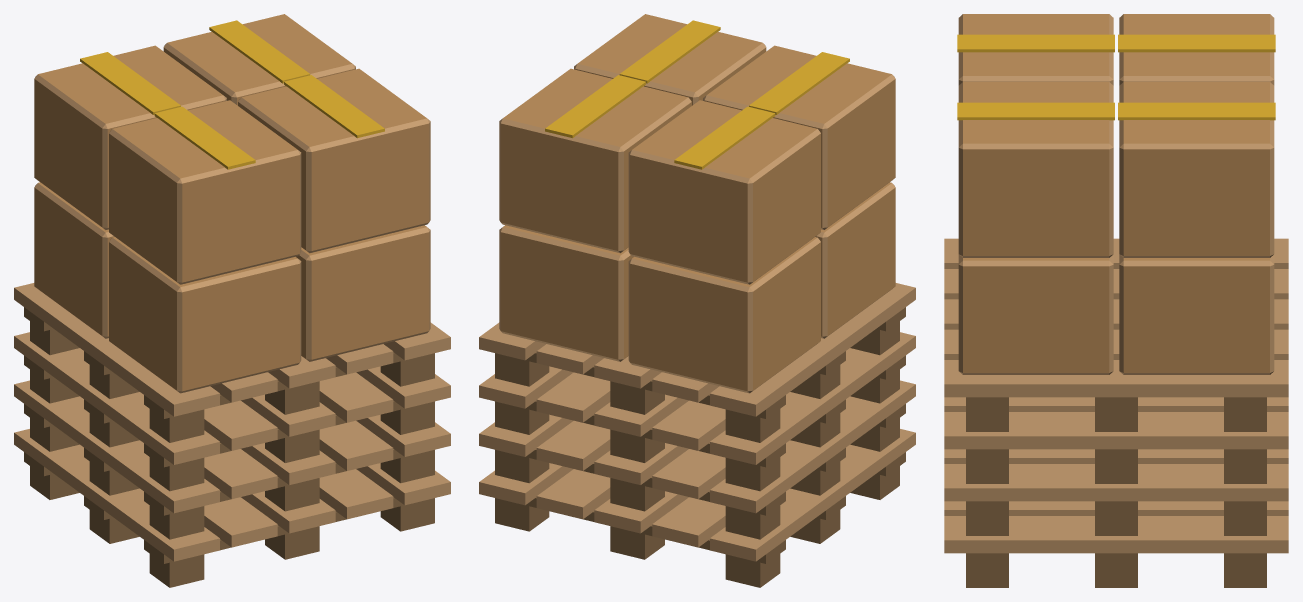
Rendered from palletStack.glb.
The picture shows the model from 3 angles, left to right: view 1: azimuth 30°, elevation 25°; view 2: azimuth 150°, elevation 25°; view 3: azimuth 270°, elevation 25°; orthographic projection. The views are drawn at different scales.
Parts seen in each view (by area): view 1: palletStack-m; view 2: palletStack-m; view 3: palletStack-m.
Part boxes in pixels (x1,y1,x2,y2): palletStack-m: (14, 14, 450, 587); palletStack-m: (479, 14, 915, 587); palletStack-m: (944, 14, 1288, 587).
Bounding box in the file's own units: 1.2 × 1.7 × 1.2.
